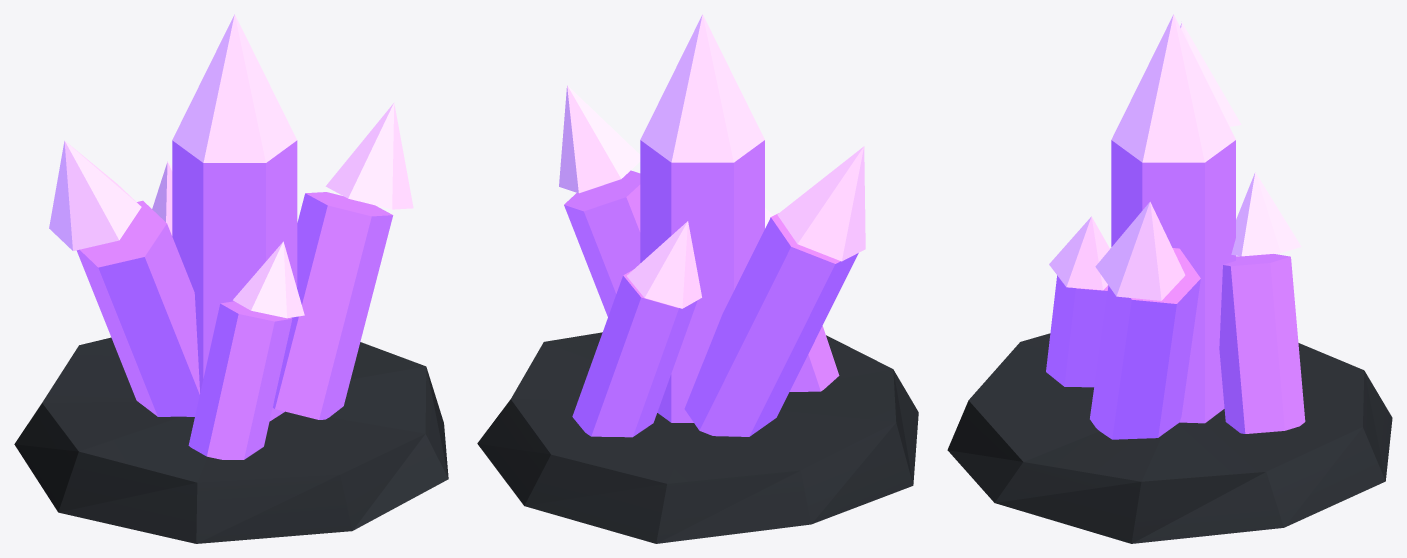
Rendered from crystal_cluster.glb.
3 views of the same model, side by side, from view 1: azimuth 30°, elevation 25°; view 2: azimuth 150°, elevation 25°; view 3: azimuth 270°, elevation 25° (orthographic).
Visible parts, largest first — view 1: crystal_cluster_root_glow9A5CFF, crystal_cluster_root_body, crystal_cluster_root_glowC49BFF; view 2: crystal_cluster_root_glow9A5CFF, crystal_cluster_root_body, crystal_cluster_root_glowC49BFF; view 3: crystal_cluster_root_body, crystal_cluster_root_glow9A5CFF, crystal_cluster_root_glowC49BFF.
Part boxes in pixels (bbox=[...]): crystal_cluster_root_glow9A5CFF: bbox=[76, 140, 393, 459]; crystal_cluster_root_body: bbox=[14, 337, 448, 543]; crystal_cluster_root_glowC49BFF: bbox=[49, 14, 413, 318]; crystal_cluster_root_glow9A5CFF: bbox=[564, 140, 858, 437]; crystal_cluster_root_body: bbox=[477, 332, 918, 543]; crystal_cluster_root_glowC49BFF: bbox=[559, 14, 865, 308]; crystal_cluster_root_body: bbox=[947, 333, 1392, 543]; crystal_cluster_root_glow9A5CFF: bbox=[1046, 140, 1305, 439]; crystal_cluster_root_glowC49BFF: bbox=[1049, 14, 1301, 300].
Size of the model in its own units: 1.55 by 1.71 by 1.57.
